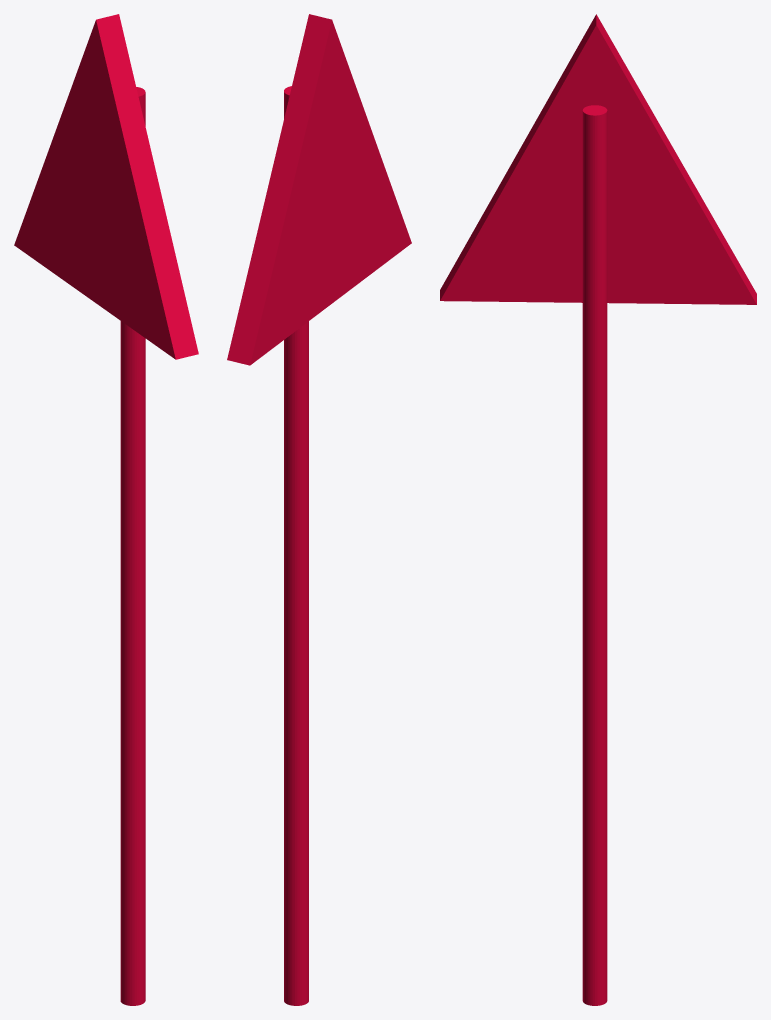
Rendered from table_2 1.fbx.
The picture shows the model from 3 angles, left to right: view 1: azimuth 30°, elevation 25°; view 2: azimuth 150°, elevation 25°; view 3: azimuth 270°, elevation 25°; orthographic projection. The views are drawn at different scales.
Parts seen in each view (by area): view 1: Cylinder; view 2: Cylinder; view 3: Cylinder.
Part boxes in pixels (x1,y1,x2,y2): Cylinder: [14, 14, 198, 1005]; Cylinder: [227, 14, 411, 1005]; Cylinder: [440, 14, 756, 1005].
Bounding box in the file's own units: 43.41 × 871 × 258.
